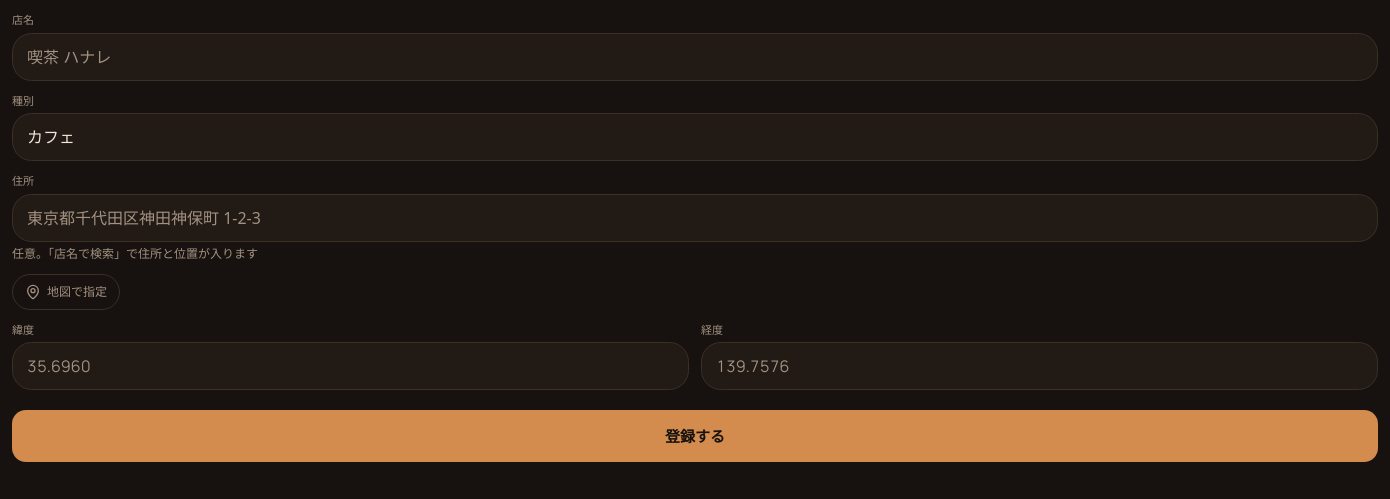
ShopForm › 店名が空なら送信しない
The width and height of the screenshot is (1390, 499).
Click the button "登録する": x=695, y=436 [12,410,1378,462]
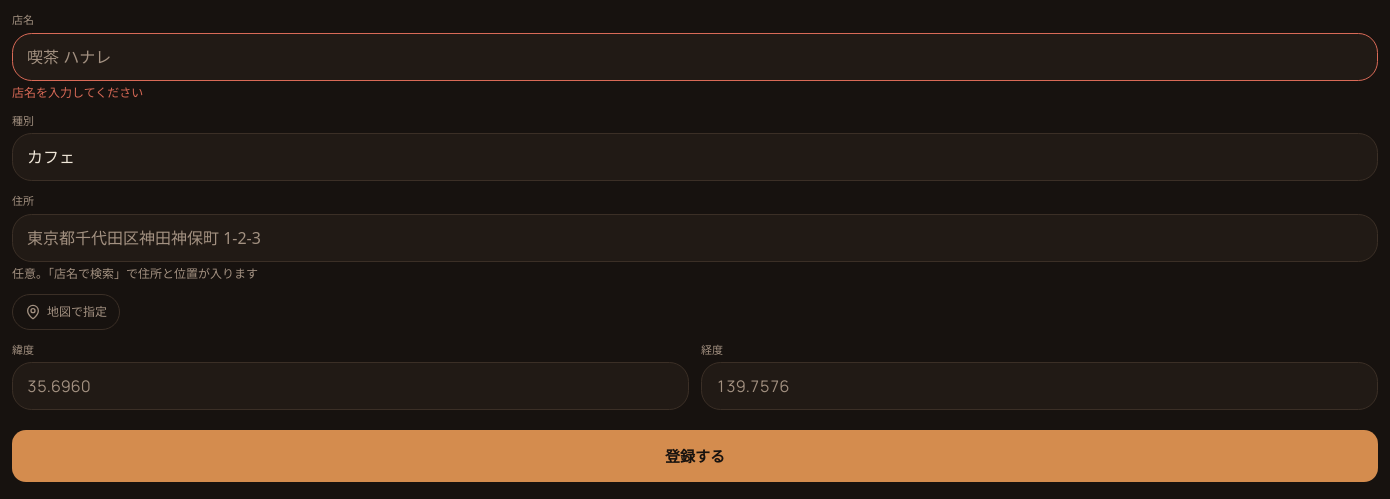
Expected: the message reads "店名を入力してください", [12,84,143,100]
